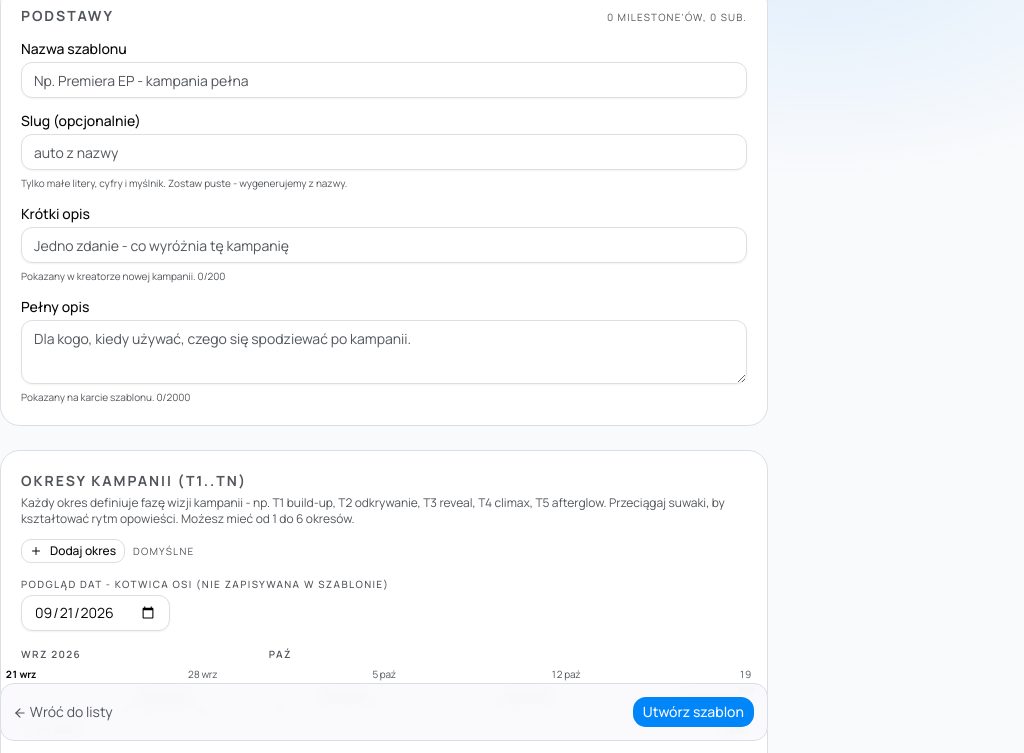
Test: CampaignTemplateForm › zapis bez milestone`ów pokazuje błąd walidacji i nie woła serwera
Type "Kampania bez milestone" into the field labelled "Nazwa szablonu".
click(384, 80); type("Kampania bez milestone")  # box [21,62,747,98]
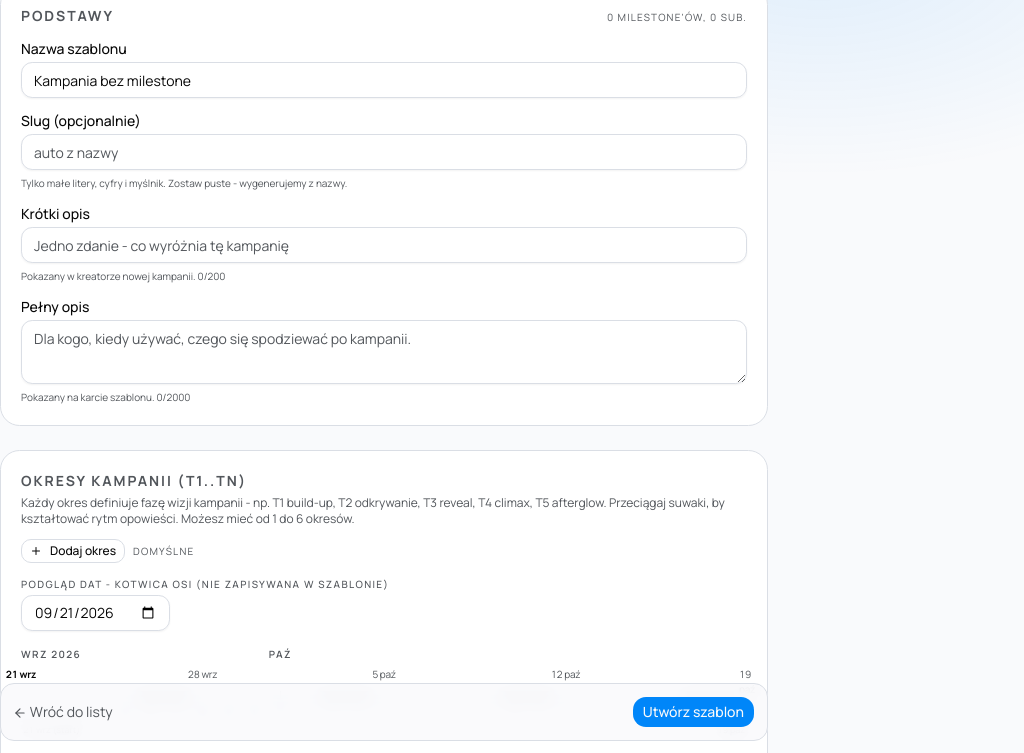
Click the button "Utwórz szablon".
click(693, 712)  # box [632,696,755,728]
(page scrolled)
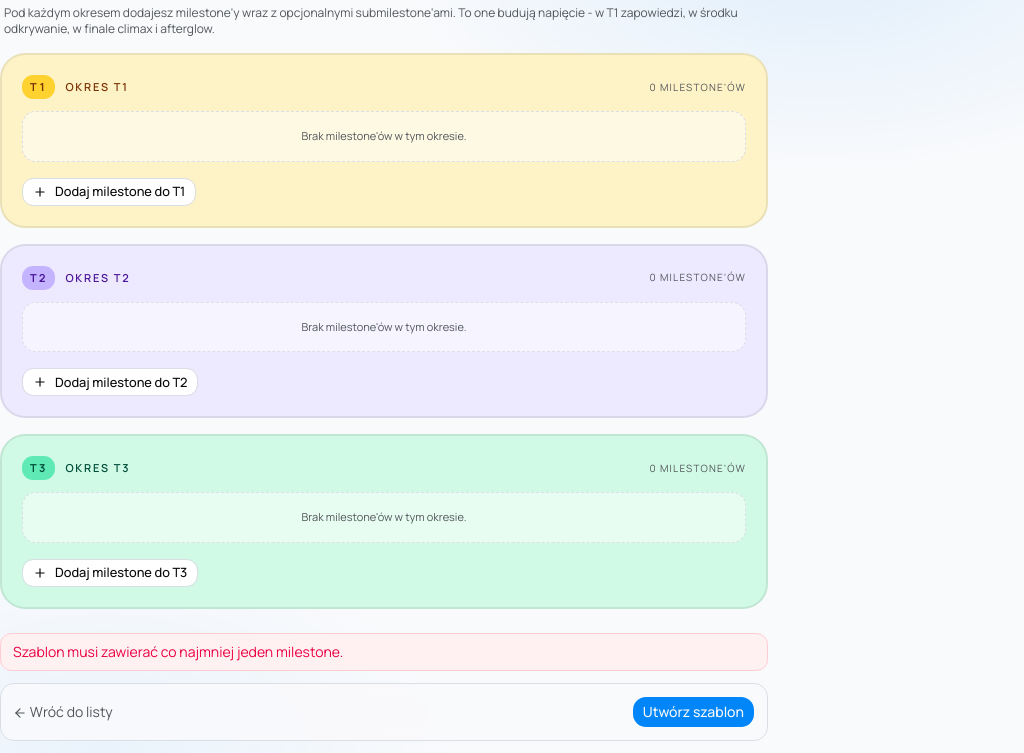
Check: the text "Szablon musi zawierać co najmniej jeden milestone." is shown, box [0,633,768,671]
